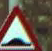Speed Breaker ahead: (1, 2, 38, 50)
